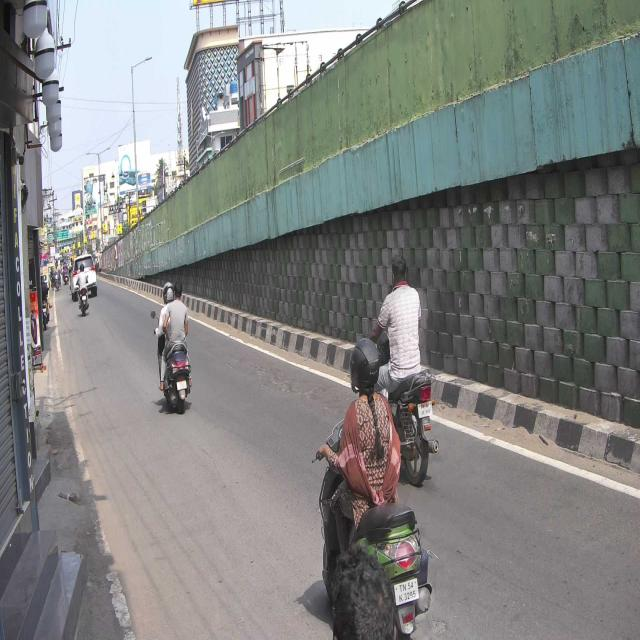single_rider: (312, 334, 426, 640)
